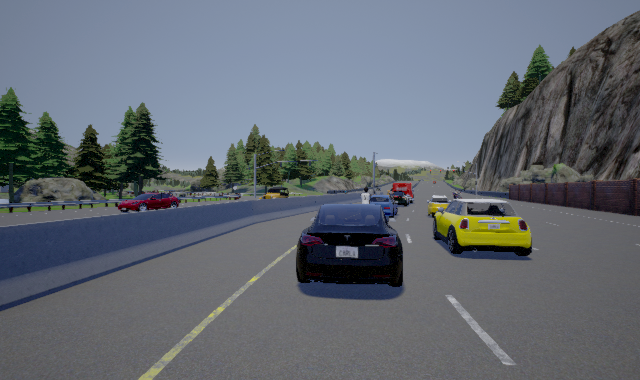traffic_light: (475, 181, 477, 185), (453, 170, 455, 173)
vehicle: (296, 183, 414, 287), (427, 192, 532, 256), (118, 193, 179, 212)
